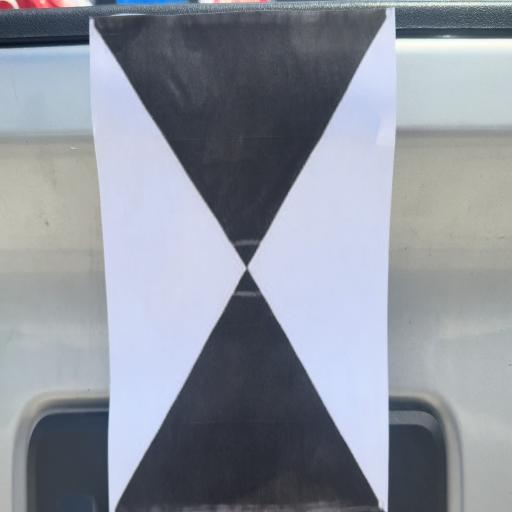target: (110, 16, 393, 512)
